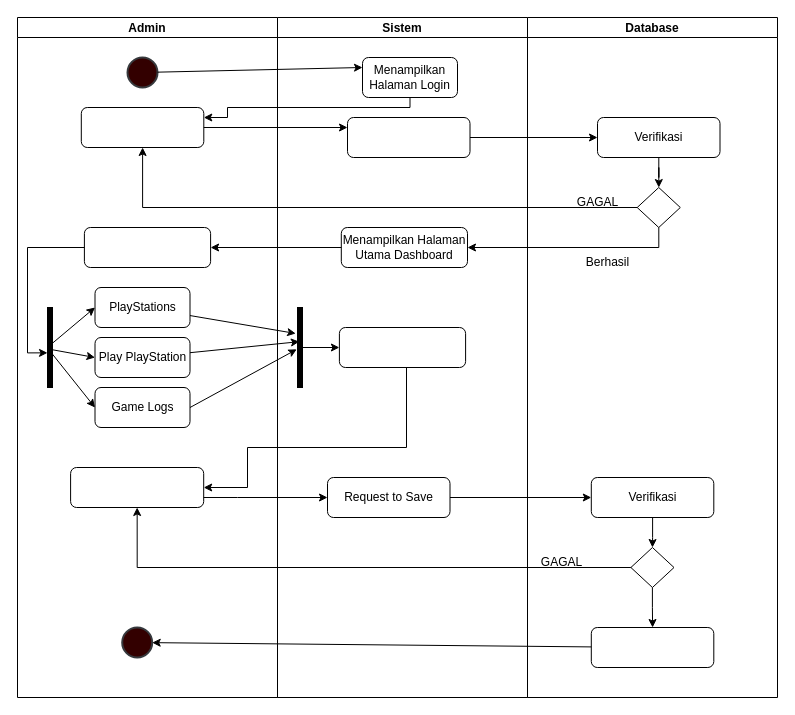
This 795x715 diagram has some shape labels left out. The centre of each missing label's shape, as x and y in pixels:
"Memasukan Email & Passoword" goes at (142,127).
"Memilih Menu" goes at (147,247).
"Menambah, mengedit, dan menghapus Data" goes at (137,487).
"Menampilkan Data" goes at (402,347).
"Menyimpan Data" goes at (652,647).
"Request to Database" goes at (408,137).
